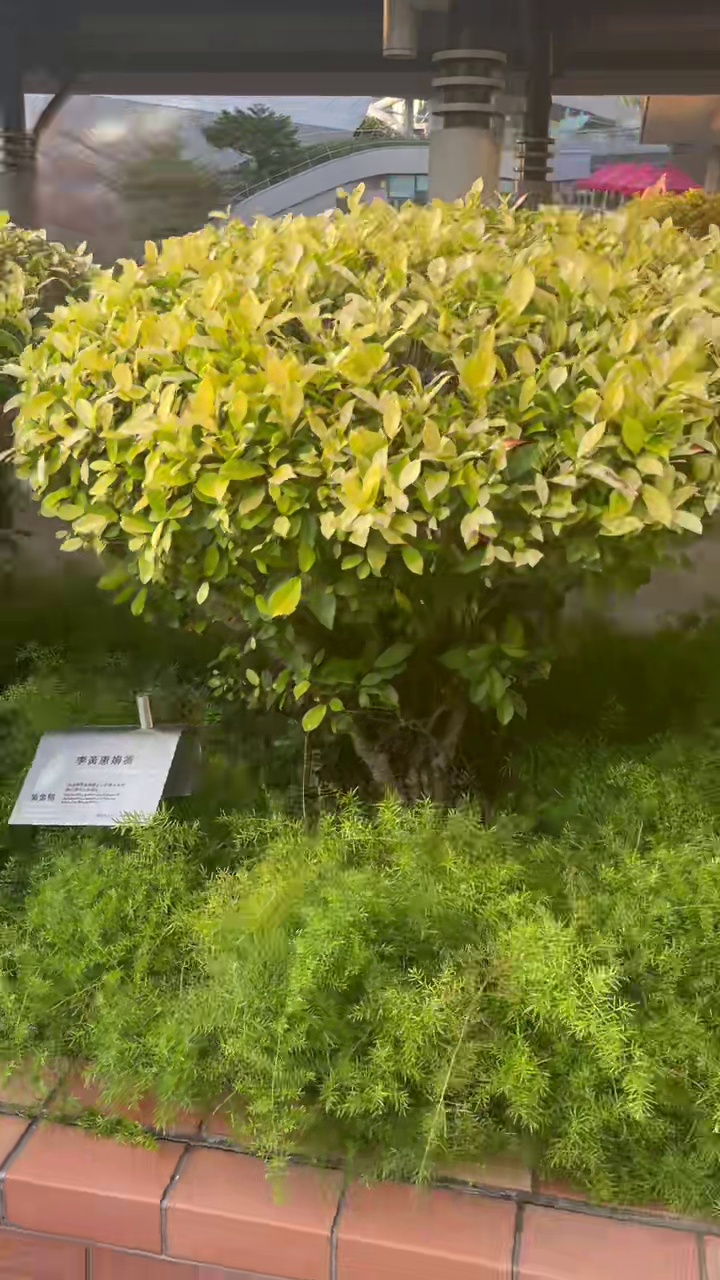Golden-leaves Fig: (14, 181, 719, 798)
